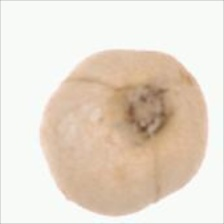L3: (116, 84, 169, 139)
L4: (39, 48, 209, 216)
